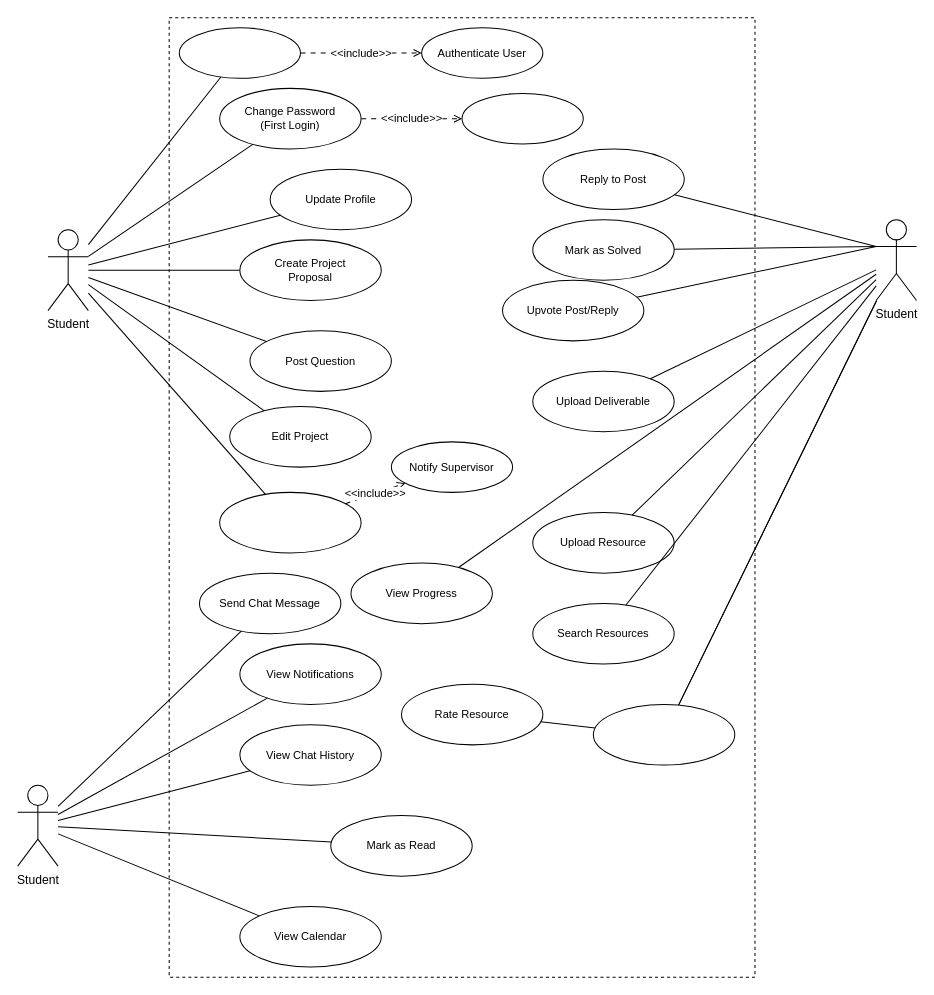
The diagram is 934 pixels wide and 995 high, and some of its shapes have lost their labels. The shapes that lost their labels are listed below. From the top down, each one's centre as x and y in pixels, then its label:
At point (239, 52): "Login".
At point (522, 118): "Validate Password".
At point (290, 522): "Submit for Review".
At point (663, 734): "Download Resource".
